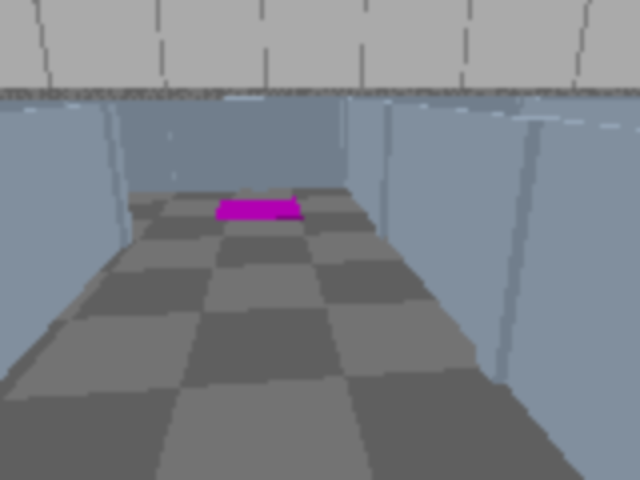goal_zone: (214, 198, 302, 221)
